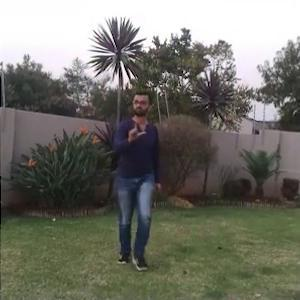land_hand: (118, 113, 146, 148)
